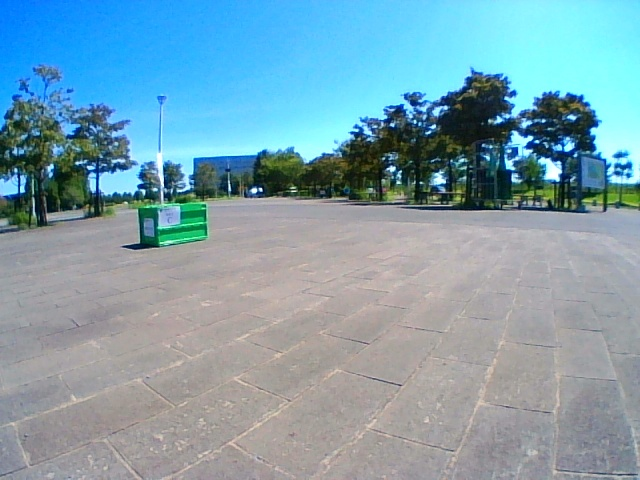green_box: (138, 203, 208, 247)
tag: (159, 208, 180, 226)
